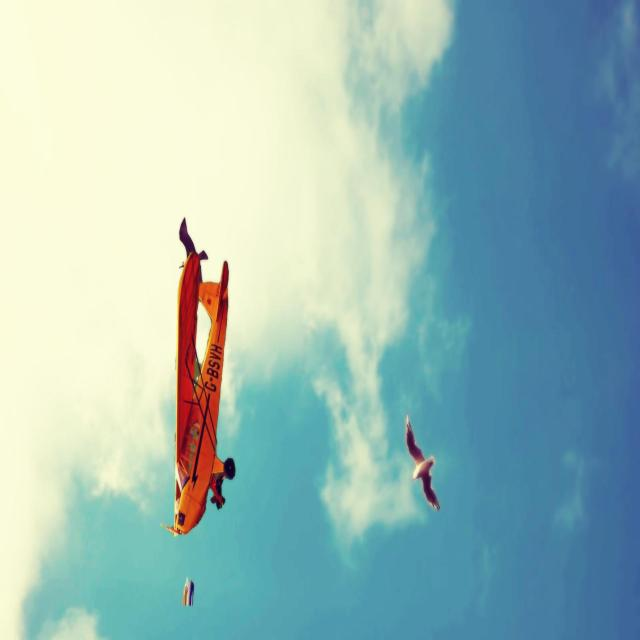airplane: (173, 249, 236, 537)
